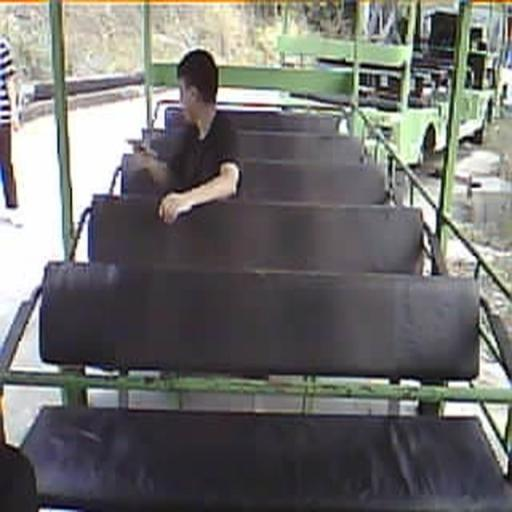persona: (128, 48, 244, 226)
